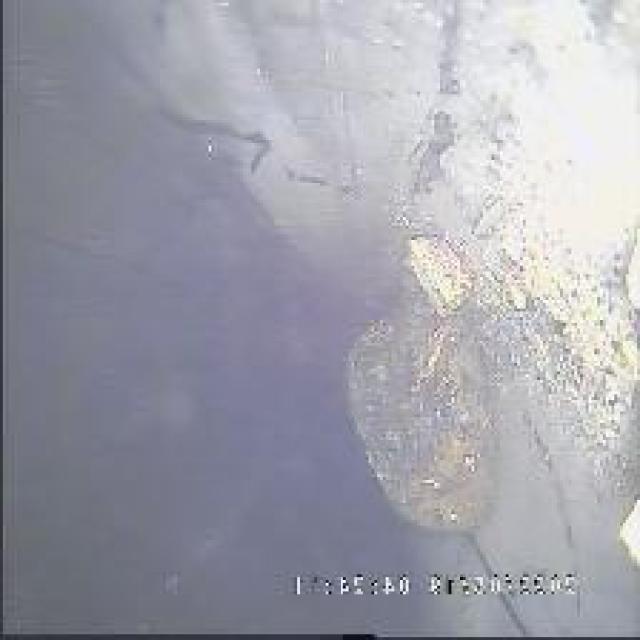stone: (328, 297, 506, 529)
